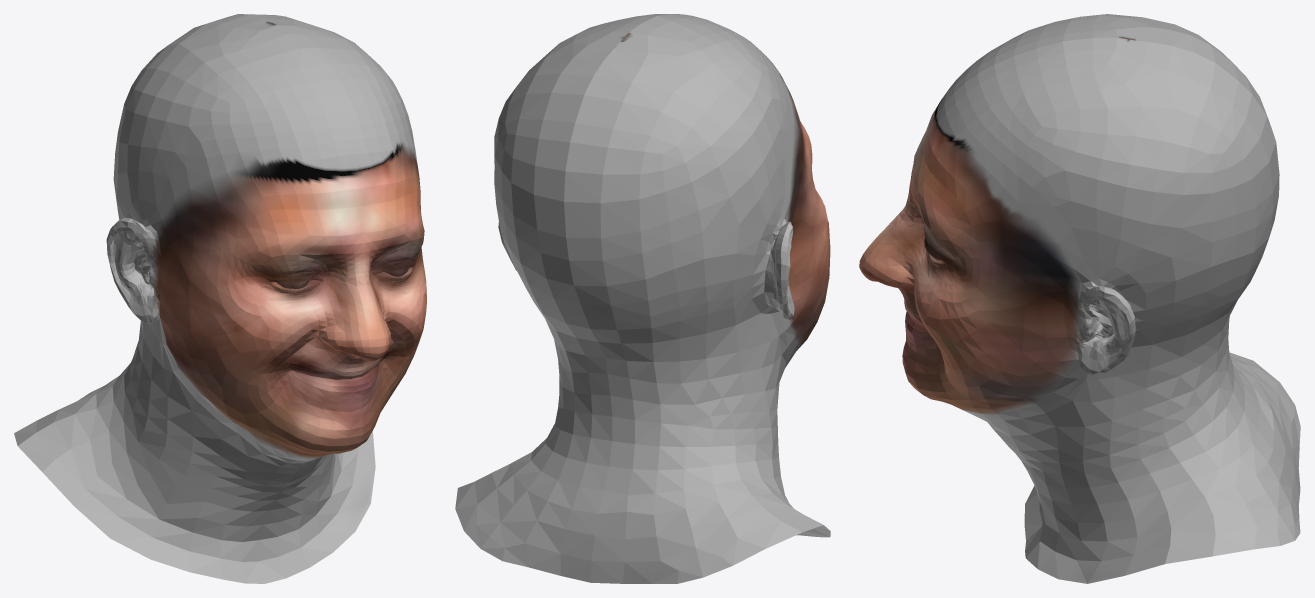
File: sample_1.obj
3 renders of one model, left to right at view 1: azimuth 30°, elevation 25°; view 2: azimuth 150°, elevation 25°; view 3: azimuth 270°, elevation 25°, orthographic. The views are drawn at different scales.
Bounding box in the file's own units: 0.2189 × 0.319 × 0.2398.
Materials: 1 (1 with a texture image).
